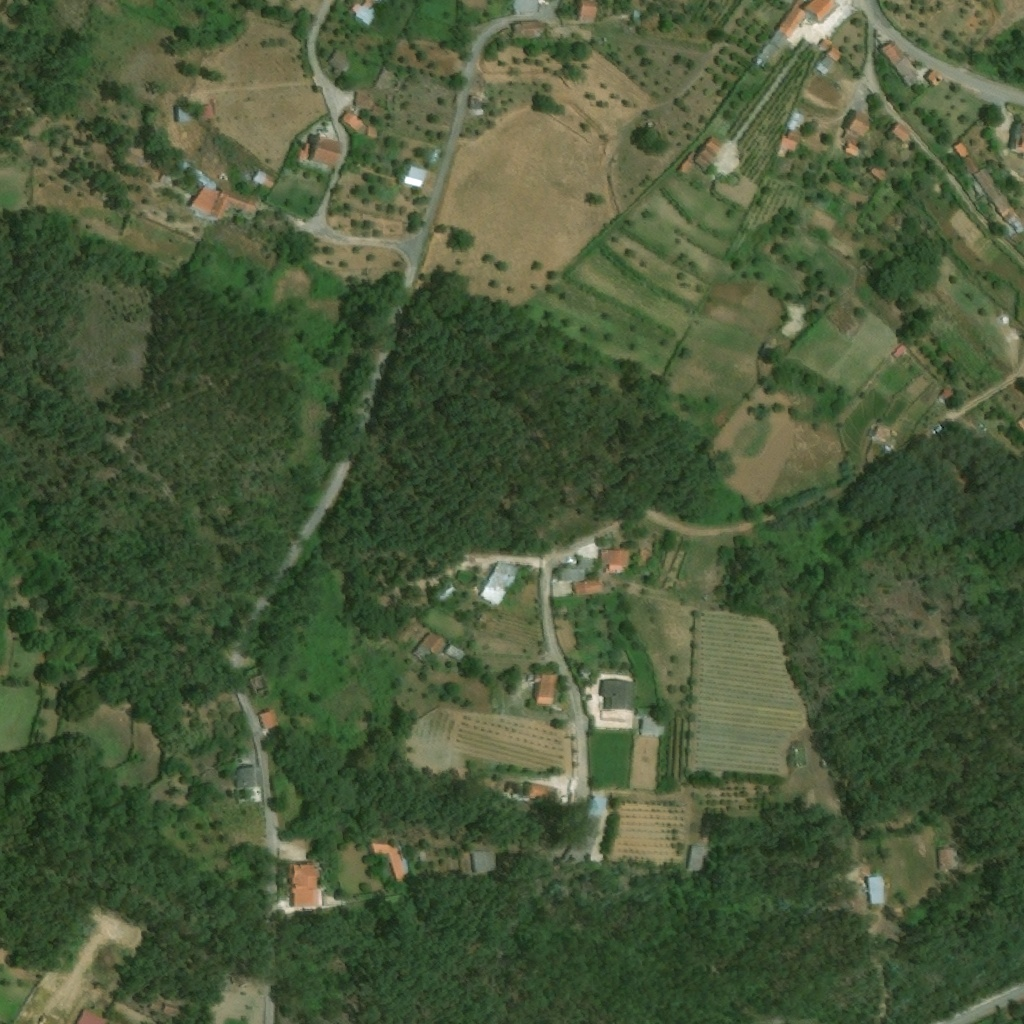0 no-damage: (972, 167, 1023, 238), (578, 668, 636, 729), (369, 841, 411, 889), (211, 187, 259, 223), (778, 0, 823, 38), (478, 561, 516, 606), (288, 863, 322, 909), (560, 543, 597, 581), (309, 134, 346, 171), (894, 54, 925, 90), (776, 124, 807, 158), (108, 1001, 155, 1023), (529, 670, 558, 704), (414, 632, 448, 661), (191, 185, 221, 216), (879, 38, 907, 68), (755, 40, 782, 71), (511, 19, 549, 41), (805, 0, 841, 22), (340, 108, 367, 136), (351, 0, 380, 26), (598, 549, 630, 571), (847, 109, 872, 137), (400, 164, 428, 189), (330, 49, 357, 74), (637, 713, 665, 736), (696, 144, 719, 171), (821, 37, 844, 62), (573, 578, 604, 596), (769, 26, 791, 51), (890, 120, 913, 143), (961, 152, 982, 177), (234, 763, 255, 788), (871, 159, 893, 182), (257, 709, 280, 731), (867, 876, 885, 904), (472, 852, 496, 873), (580, 0, 600, 25), (686, 845, 703, 873), (76, 1009, 109, 1023), (445, 643, 467, 663), (940, 847, 959, 870), (356, 89, 376, 110), (590, 796, 609, 818), (680, 152, 697, 174), (816, 56, 835, 75), (787, 110, 806, 129), (927, 68, 946, 86), (199, 103, 217, 121), (706, 136, 725, 153), (178, 105, 194, 125), (525, 784, 546, 799), (438, 585, 455, 602), (939, 385, 955, 403), (299, 141, 313, 161), (847, 140, 863, 157), (262, 173, 277, 189), (253, 169, 268, 185), (470, 97, 485, 111), (367, 125, 379, 141)
4 un-classified: (515, 0, 545, 13), (1012, 118, 1023, 153)
